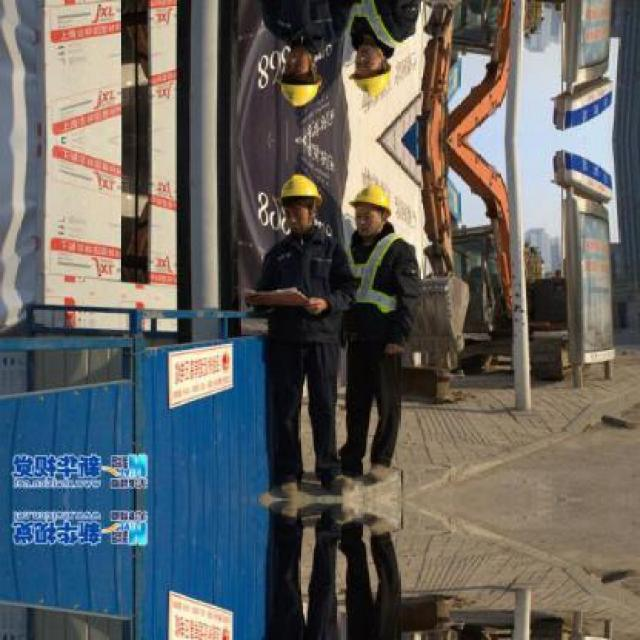Reflective-Jacket: (343, 230, 437, 328)
Safety-Helmet: (265, 165, 329, 214), (345, 177, 403, 222)
